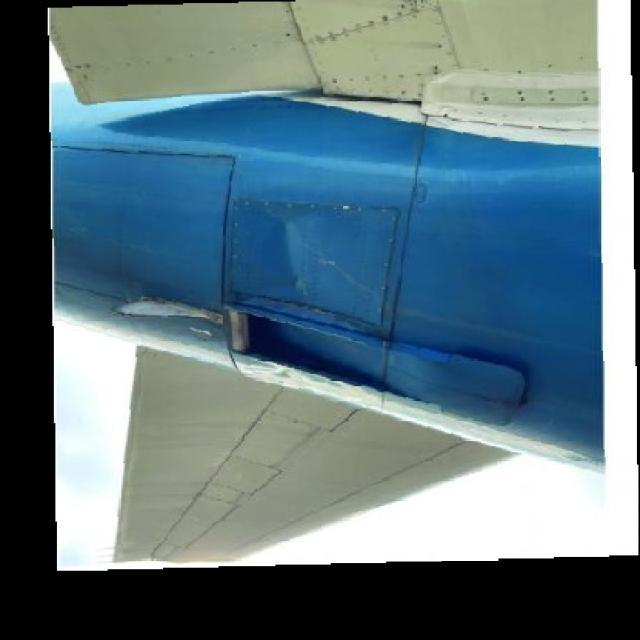dent: (247, 218, 332, 327)
